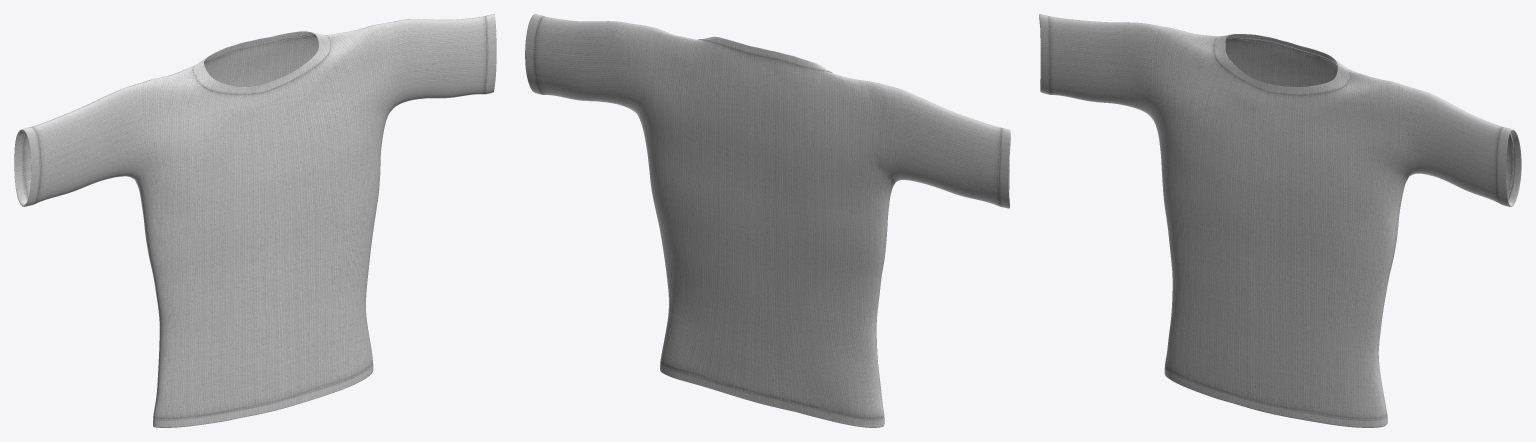
File: Shirt.fbx
The picture shows the model from 3 angles, left to right: view 1: azimuth 30°, elevation 25°; view 2: azimuth 150°, elevation 25°; view 3: azimuth 330°, elevation 25°; orthographic projection.
Visible parts, largest first — view 1: TShirt for Genesis.Shape.001; view 2: TShirt for Genesis.Shape.001; view 3: TShirt for Genesis.Shape.001.
Part boxes in pixels (x1=…): TShirt for Genesis.Shape.001: x1=14, y1=14, x2=496, y2=427; TShirt for Genesis.Shape.001: x1=525, y1=14, x2=1010, y2=427; TShirt for Genesis.Shape.001: x1=1039, y1=14, x2=1521, y2=427.
Size of the model in its own units: 0.7271 by 0.5179 by 0.0593.
